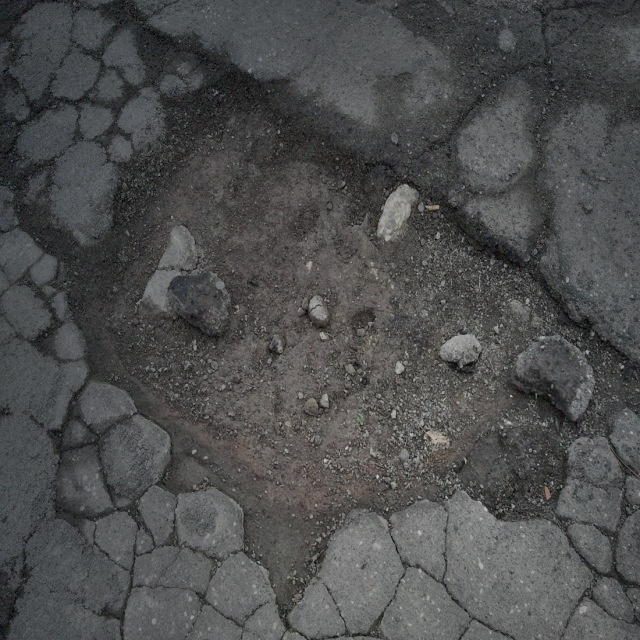pothole: (66, 57, 617, 564)
